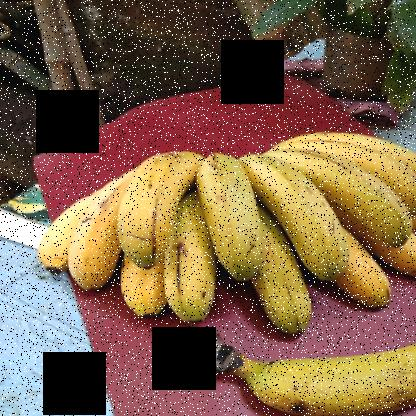ripe: (240, 324, 415, 415), (113, 136, 201, 264), (160, 224, 216, 330)
